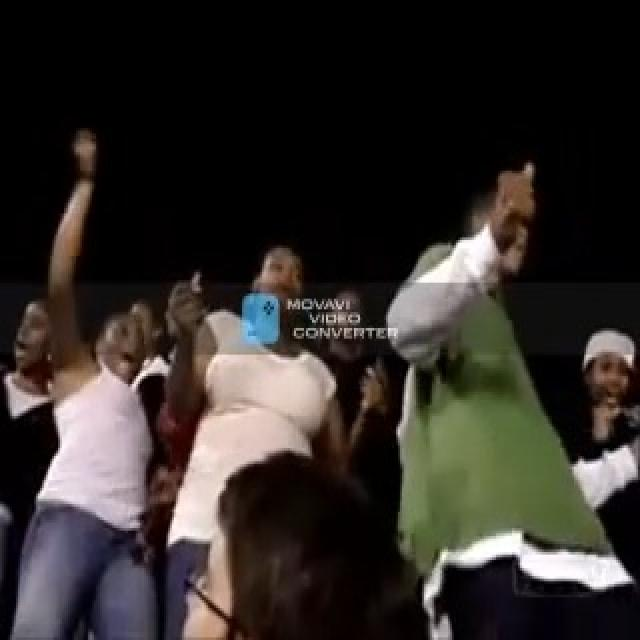non-voilence: (0, 123, 638, 637), (382, 155, 638, 637), (4, 123, 160, 637)
